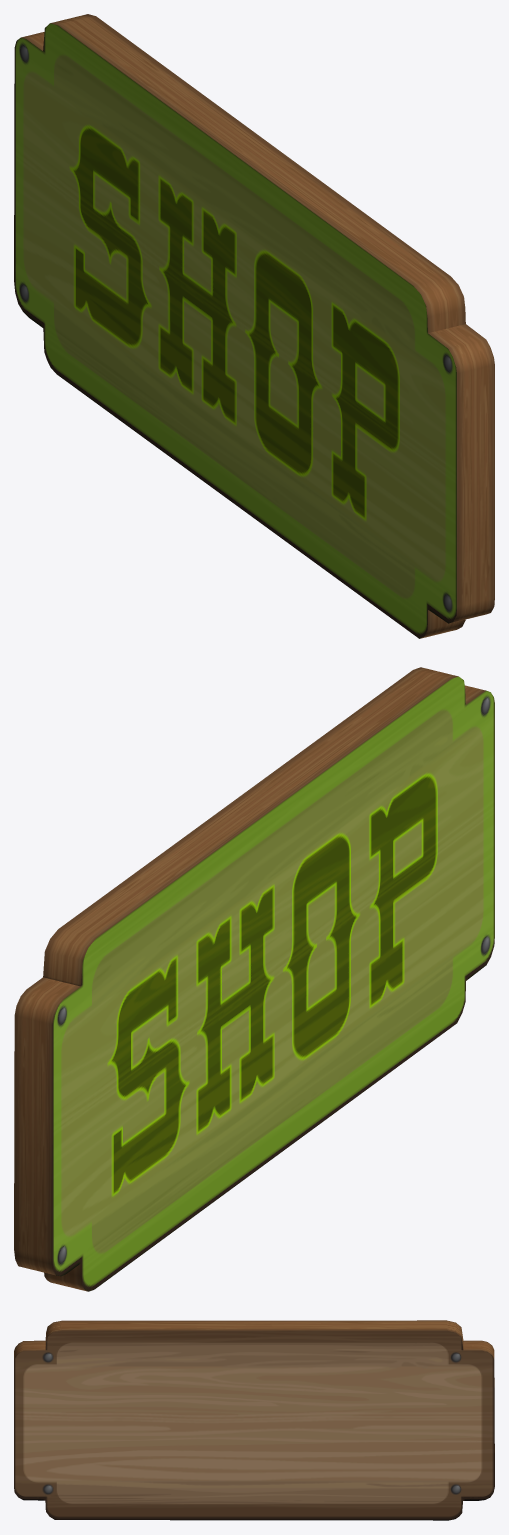
Rendered from Sign_Shop_01.FBX.
The picture shows the model from 3 angles, top to bottom: view 1: azimuth 30°, elevation 25°; view 2: azimuth 150°, elevation 25°; view 3: azimuth 270°, elevation 25°; orthographic projection. The views are drawn at different scales.
Visible parts, largest first — view 1: Sign_Shop_01; view 2: Sign_Shop_01; view 3: Sign_Shop_01.
Boxes of the visible parts, bbox=[...] form: Sign_Shop_01: bbox=[14, 14, 494, 638]; Sign_Shop_01: bbox=[14, 667, 494, 1291]; Sign_Shop_01: bbox=[14, 1320, 494, 1520].
Bounding box in the file's own units: 0.2256 × 1.99 × 4.57.
